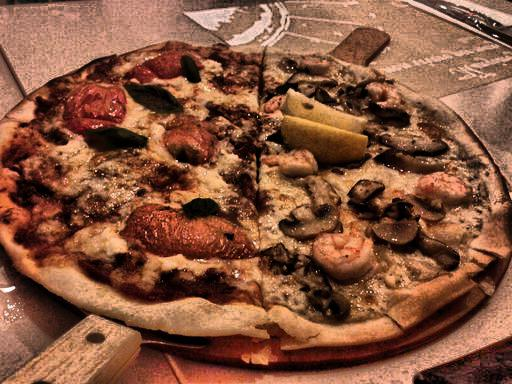pizza: (2, 46, 498, 358)
